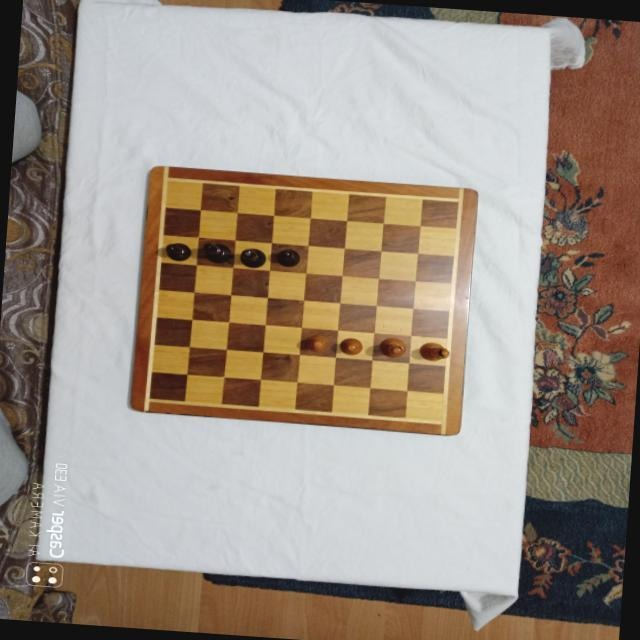black-bishop: (200, 241, 232, 264), (238, 247, 266, 269)
black-pawn: (163, 242, 192, 262), (275, 248, 300, 268)
white-bishop: (418, 341, 450, 363), (378, 337, 406, 359)
white-pawn: (304, 333, 330, 354), (337, 336, 362, 356)
